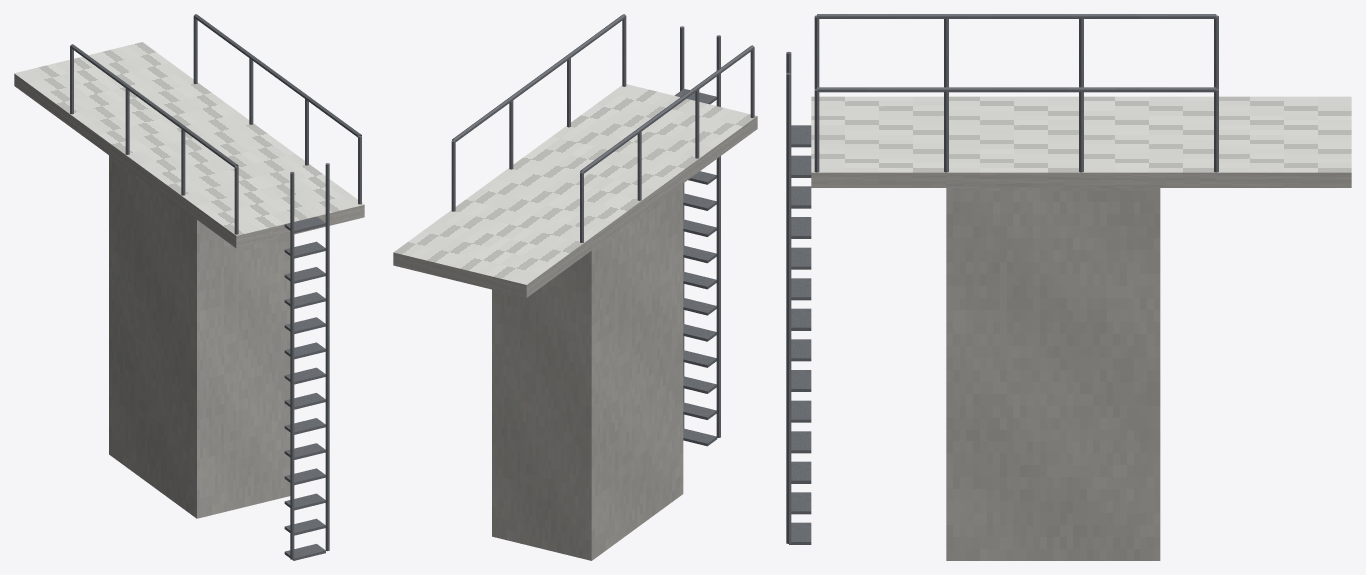
Rendered from platform_5m.obj.
The picture shows the model from 3 angles, left to right: view 1: azimuth 30°, elevation 25°; view 2: azimuth 150°, elevation 25°; view 3: azimuth 270°, elevation 25°; orthographic projection. The views are drawn at different scales.
Visible parts, largest first — view 1: platform_5m; view 2: platform_5m; view 3: platform_5m.
Boxes of the visible parts, left/top/right/bottom form: platform_5m: left=14, top=14, right=364, bottom=560; platform_5m: left=393, top=14, right=757, bottom=560; platform_5m: left=786, top=14, right=1351, bottom=560.
Bounding box in the file's own units: 2 × 5.94 × 6.28.
